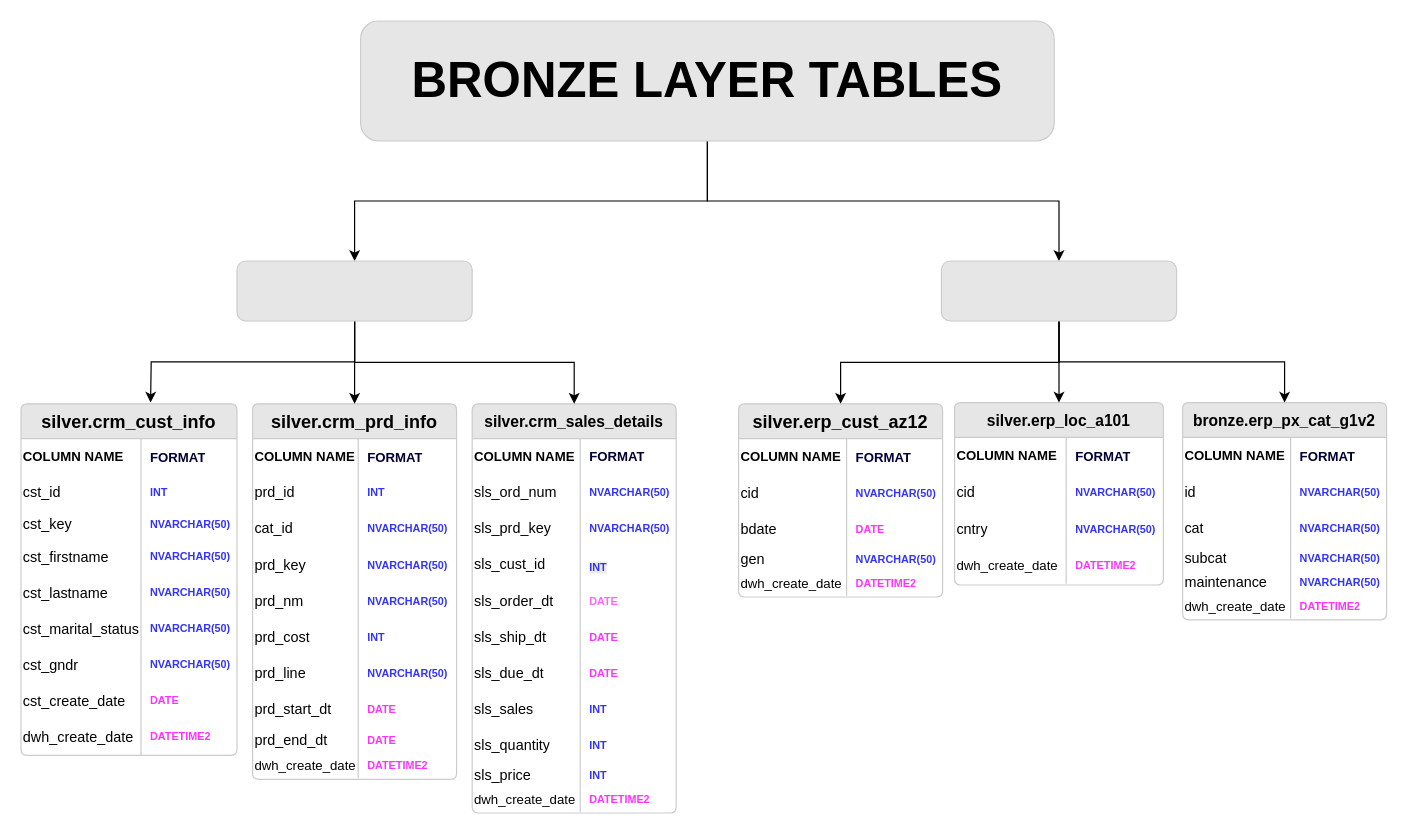
Some shapes in this 1408 by 834 pixel diagram are drawn without their labels. Here are the shapes that lost their labels. From the top down, the centre of each, then its label:
point 354,290: CRM TABLES
point 1058,290: ERP TABLES
